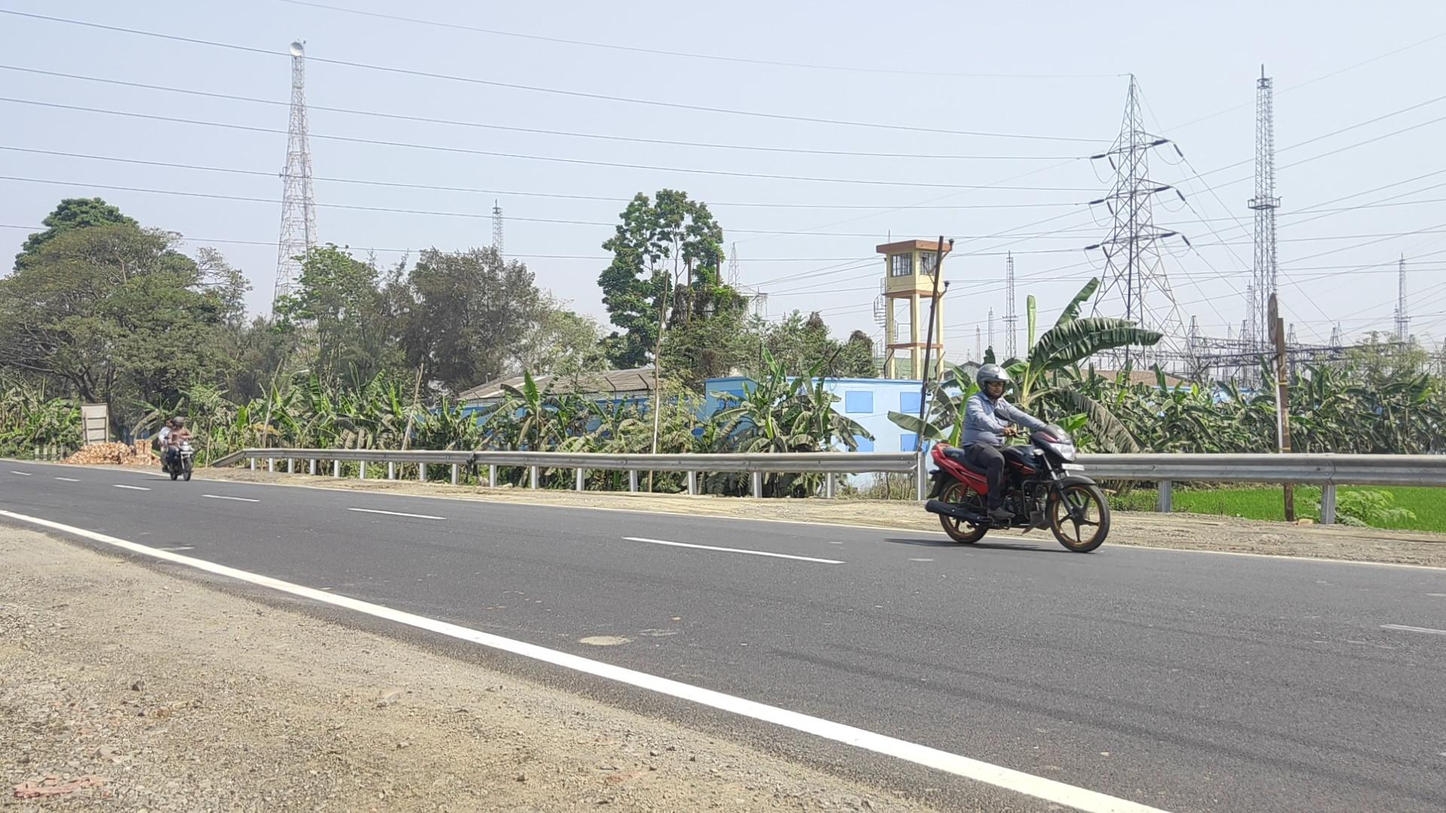bike: (924, 364, 1111, 554), (158, 416, 199, 482)
